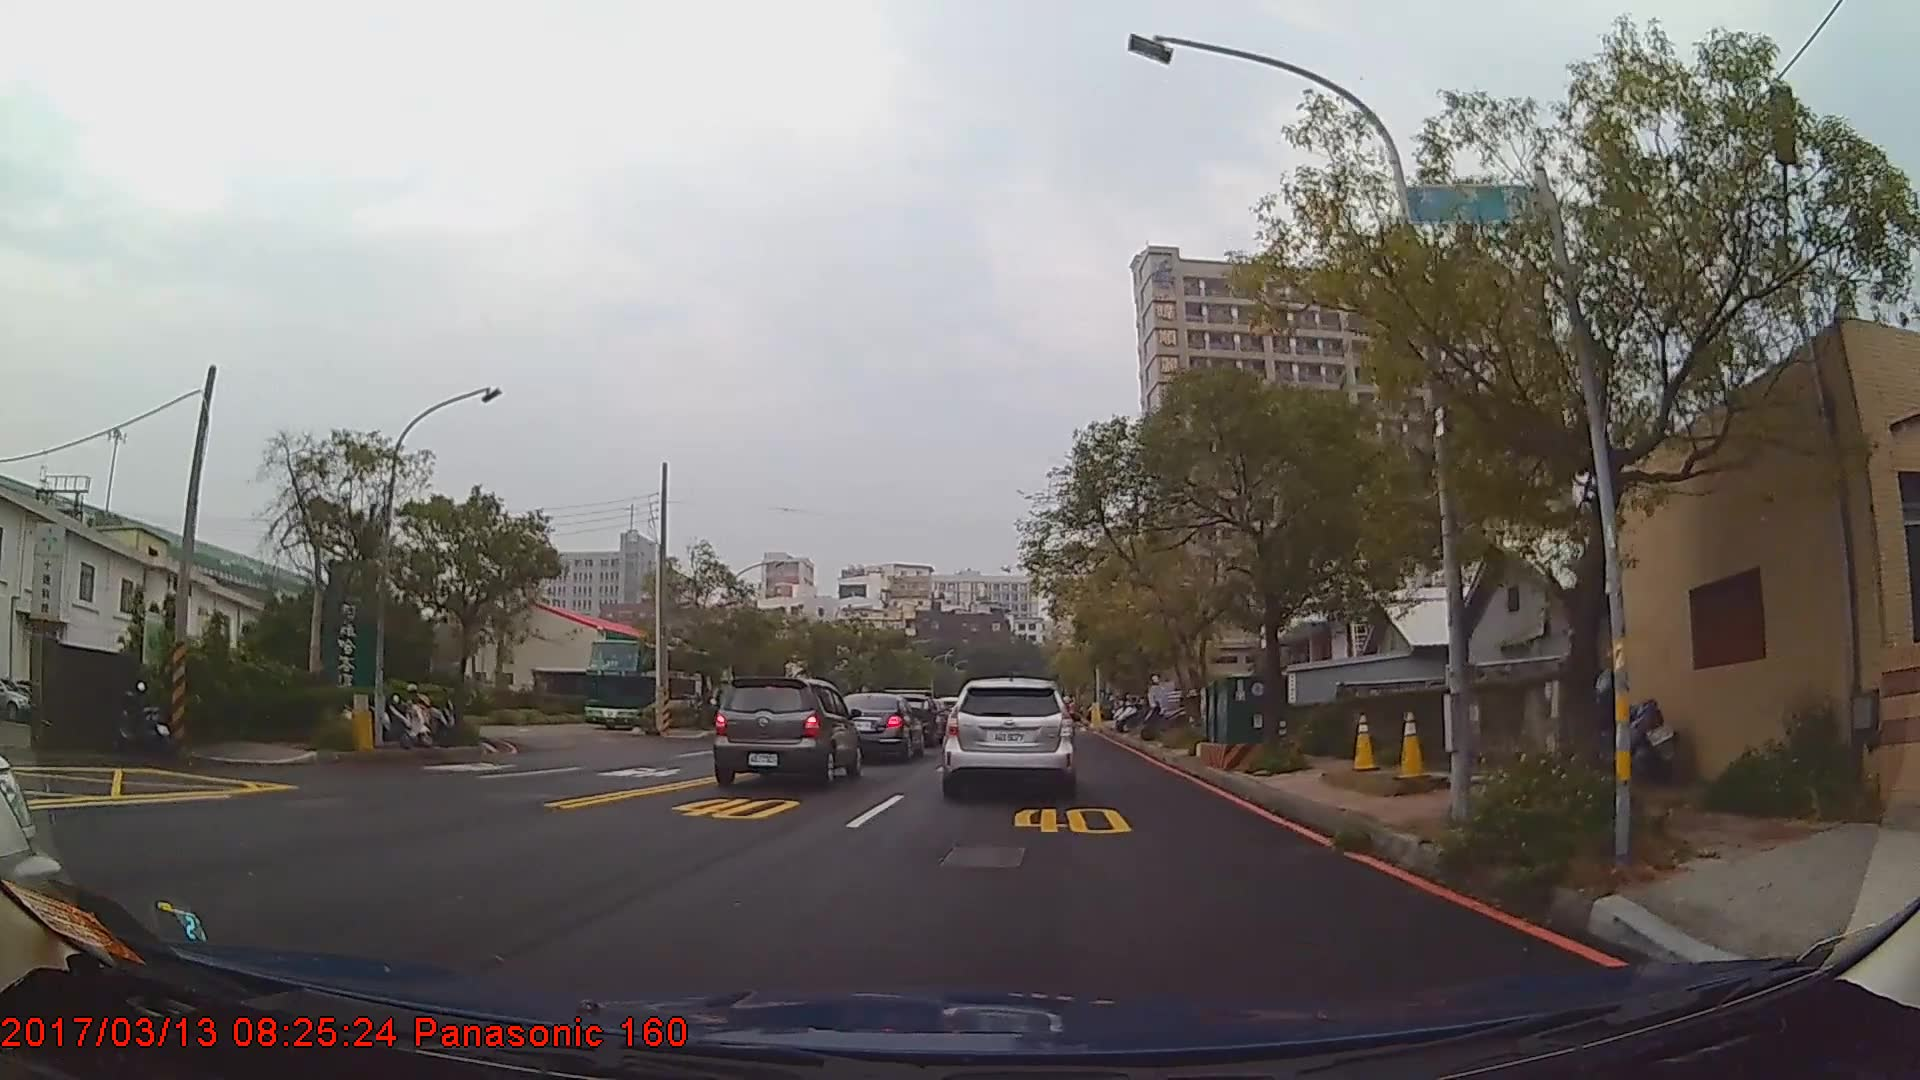vehicle: (711, 674, 861, 785), (942, 676, 1076, 796), (583, 636, 723, 732), (0, 752, 63, 911), (831, 692, 924, 760)
